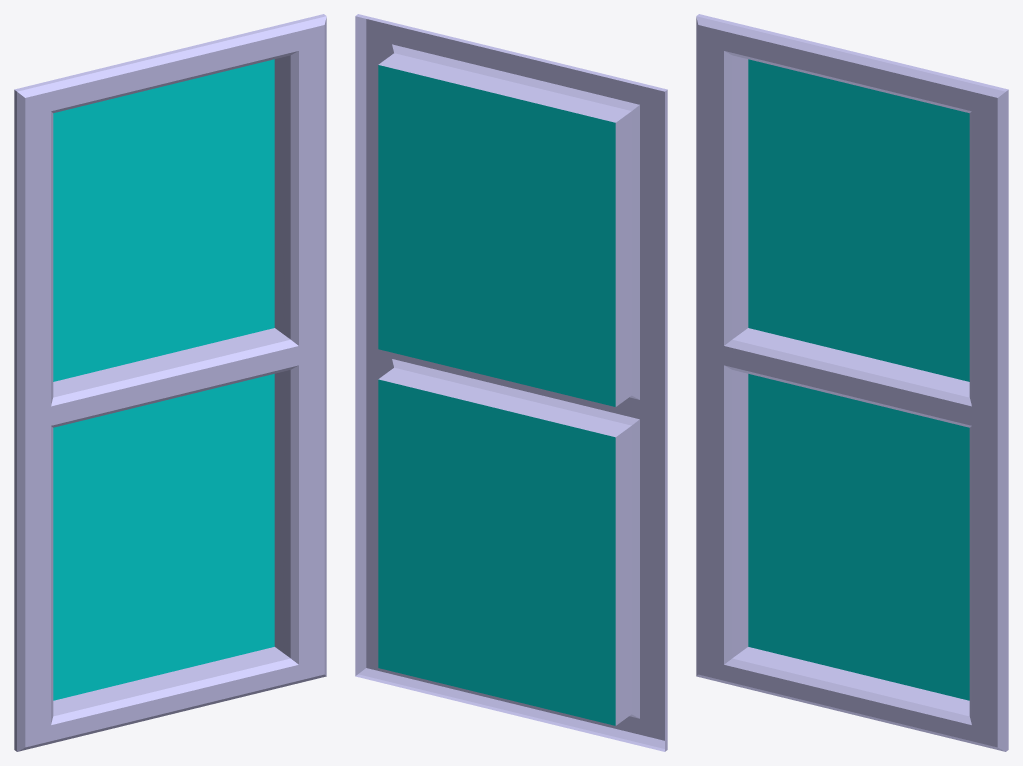
File: MidWallWindowInsert.fbx
3 renders of one model, left to right at view 1: azimuth 30°, elevation 25°; view 2: azimuth 150°, elevation 25°; view 3: azimuth 330°, elevation 25°, orthographic.
Visible parts, largest first — view 1: MidWallWindowInsert; view 2: MidWallWindowInsert; view 3: MidWallWindowInsert.
Boxes of the visible parts, bbox=[...] form: MidWallWindowInsert: bbox=[14, 14, 326, 751]; MidWallWindowInsert: bbox=[355, 14, 667, 751]; MidWallWindowInsert: bbox=[696, 14, 1008, 751].
Size of the model in its own units: 1.3 by 2.66 by 0.1382.
